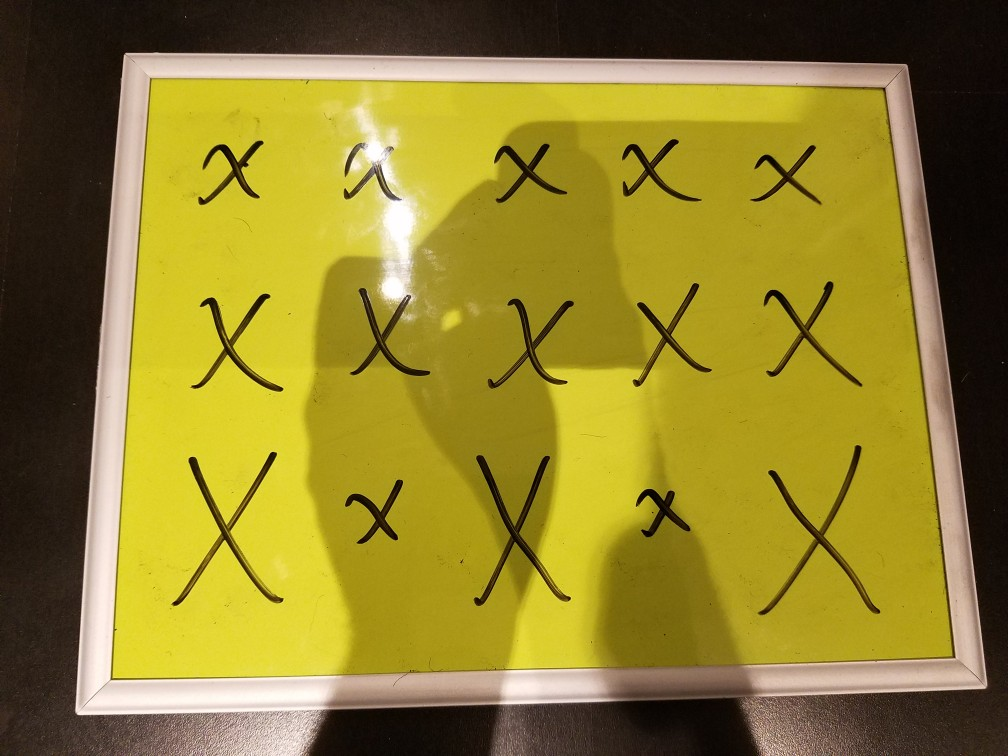x: (751, 438, 893, 617), (163, 427, 293, 607), (471, 444, 574, 612), (618, 260, 738, 403), (476, 270, 582, 403), (181, 275, 286, 405), (758, 279, 868, 394), (738, 133, 844, 229), (350, 263, 428, 387), (185, 113, 271, 220), (327, 124, 422, 218), (611, 123, 706, 216), (482, 127, 568, 213), (338, 465, 413, 554), (633, 474, 698, 547)
